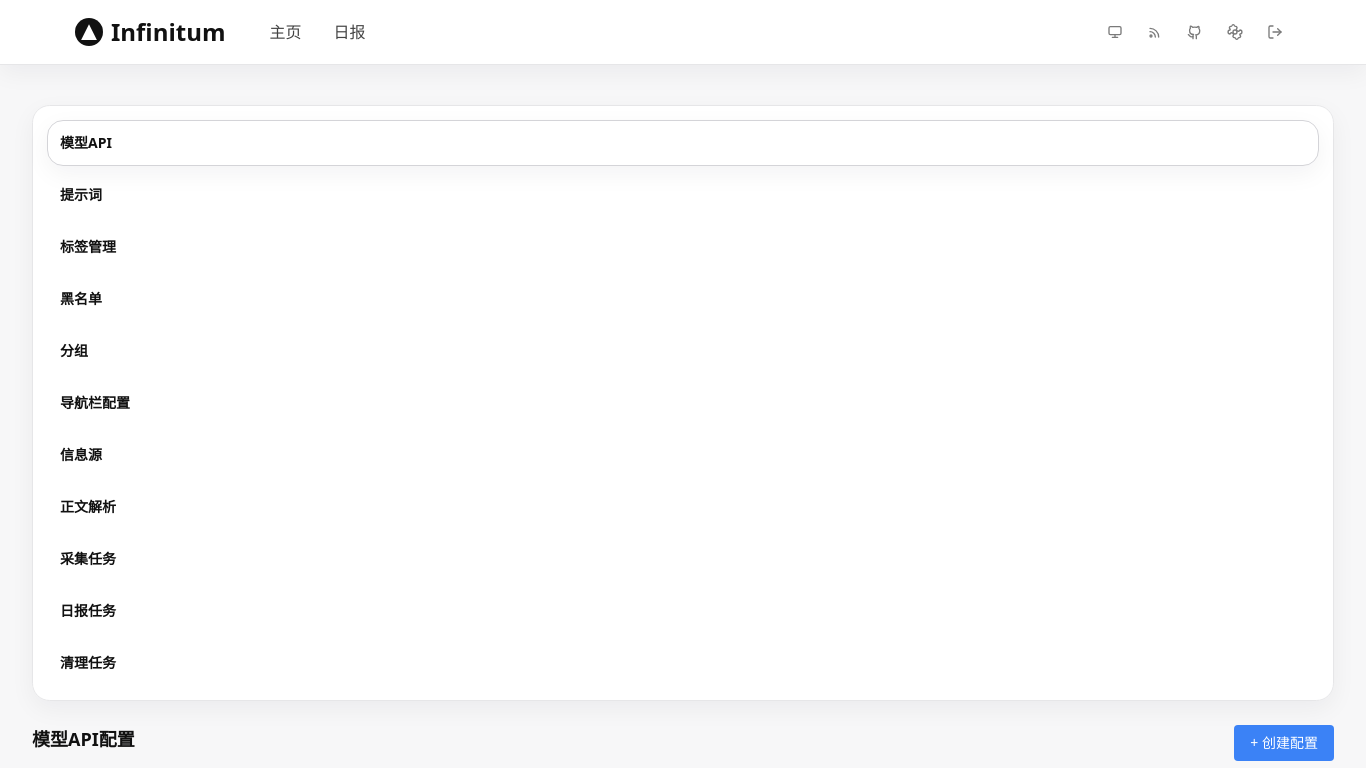
Test: AdminSettingsPanel › refreshes the current source query after editing a source
The image size is (1366, 768).
Click the tab "信息源" at (81, 454), box top-left (47, 432), bottom-right (1319, 478)
(page scrolled)
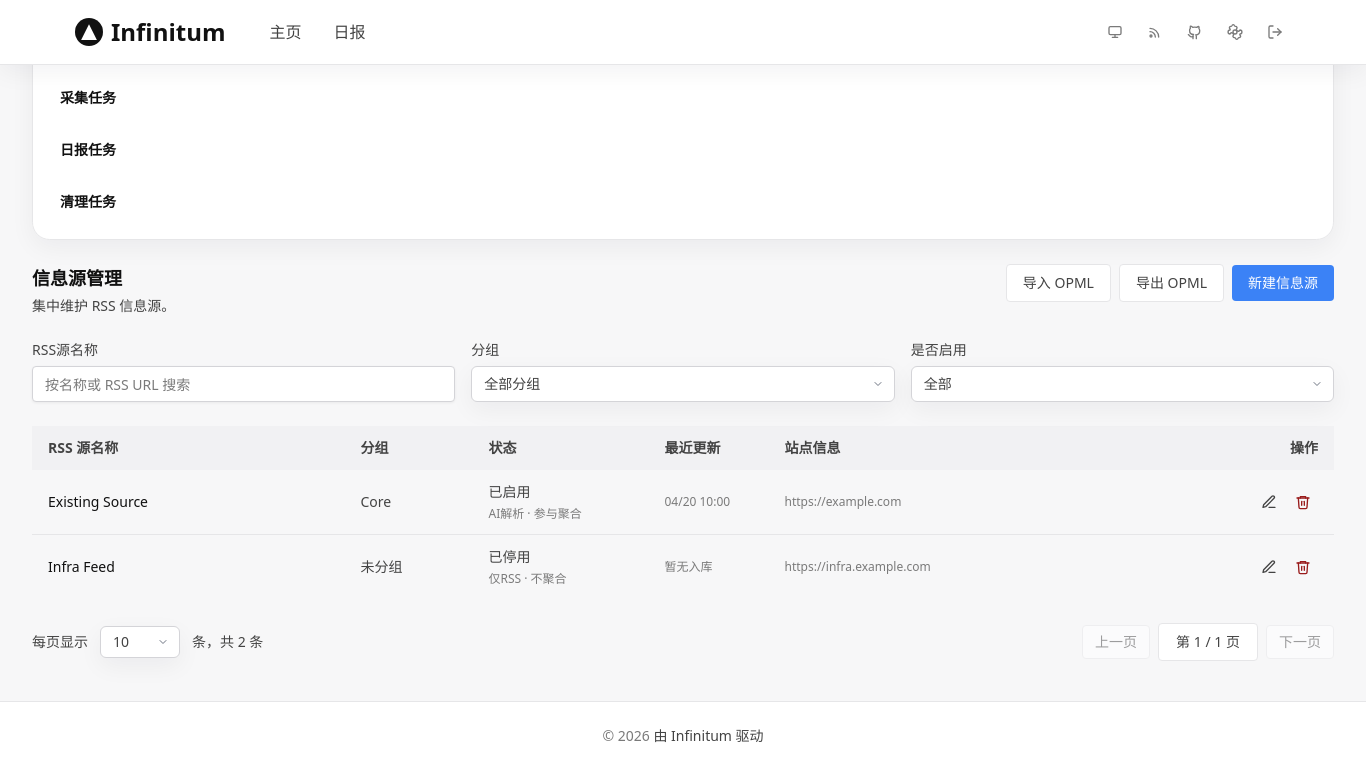
Type "Infra" into the field labelled "RSS源名称" at (244, 384), box top-left (32, 366), bottom-right (455, 402)
(page scrolled)
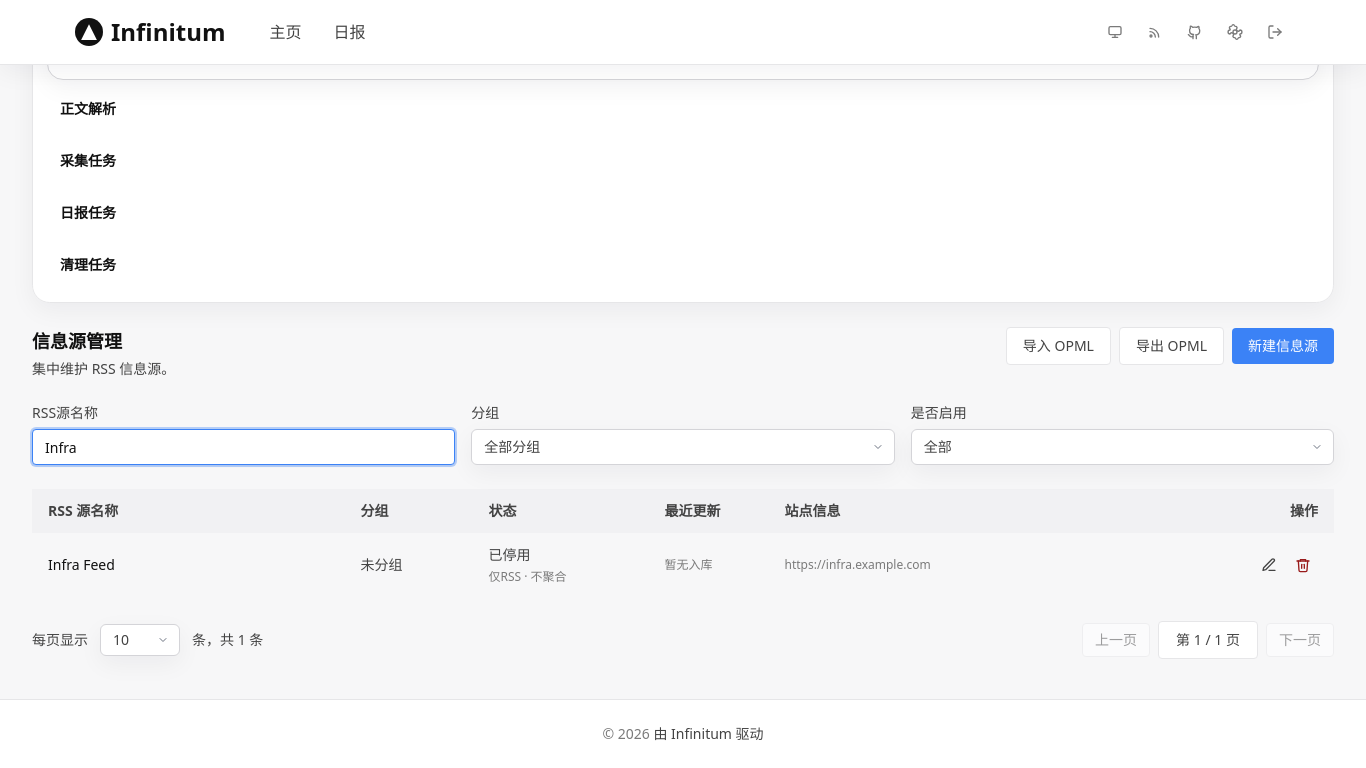
Select "已停用" in the dropdown labelled "是否启用" at (1122, 447), box top-left (911, 429), bottom-right (1334, 465)
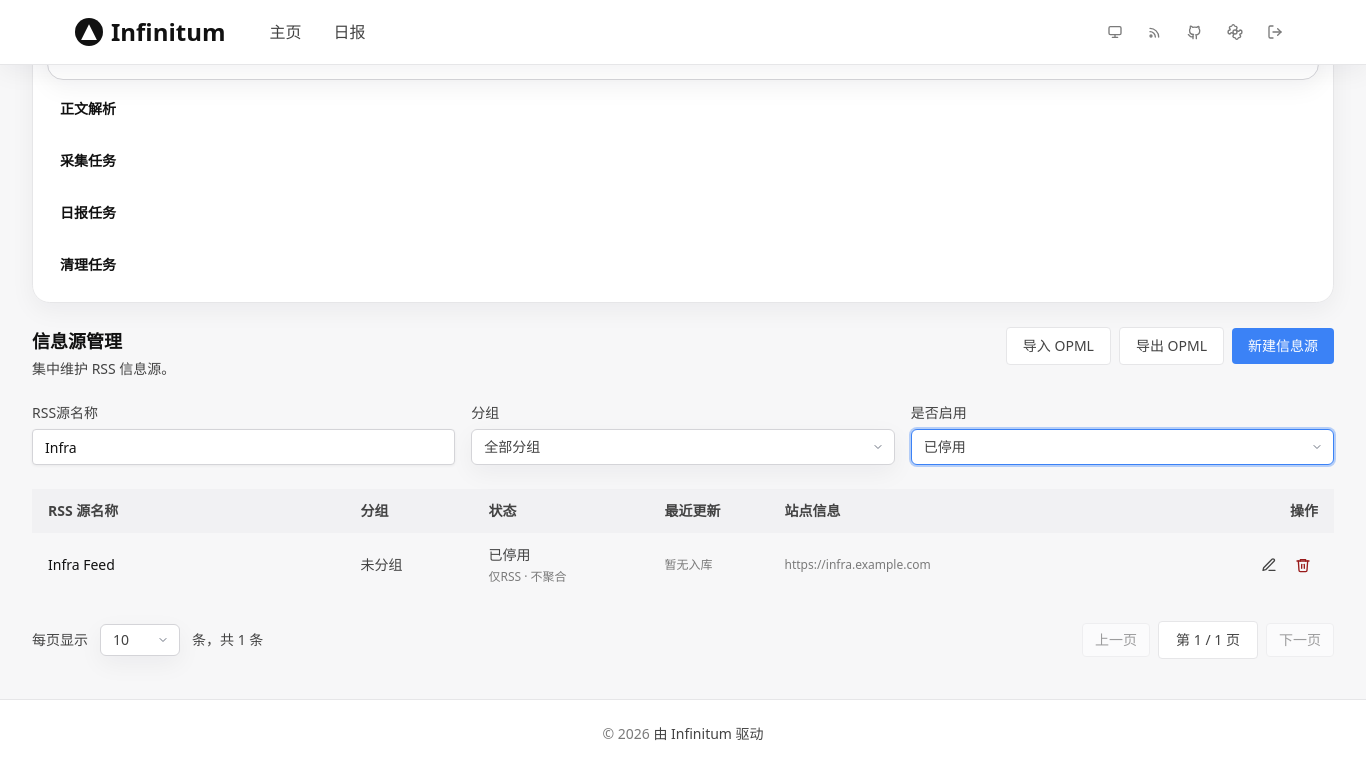
expect the text "Existing Source" is not shown: met
expect the text "Infra Feed" is shown: met, box top-left (48, 555), bottom-right (115, 574)
Click the button titled "编辑" at (1269, 565), box top-left (1254, 550), bottom-right (1284, 580)
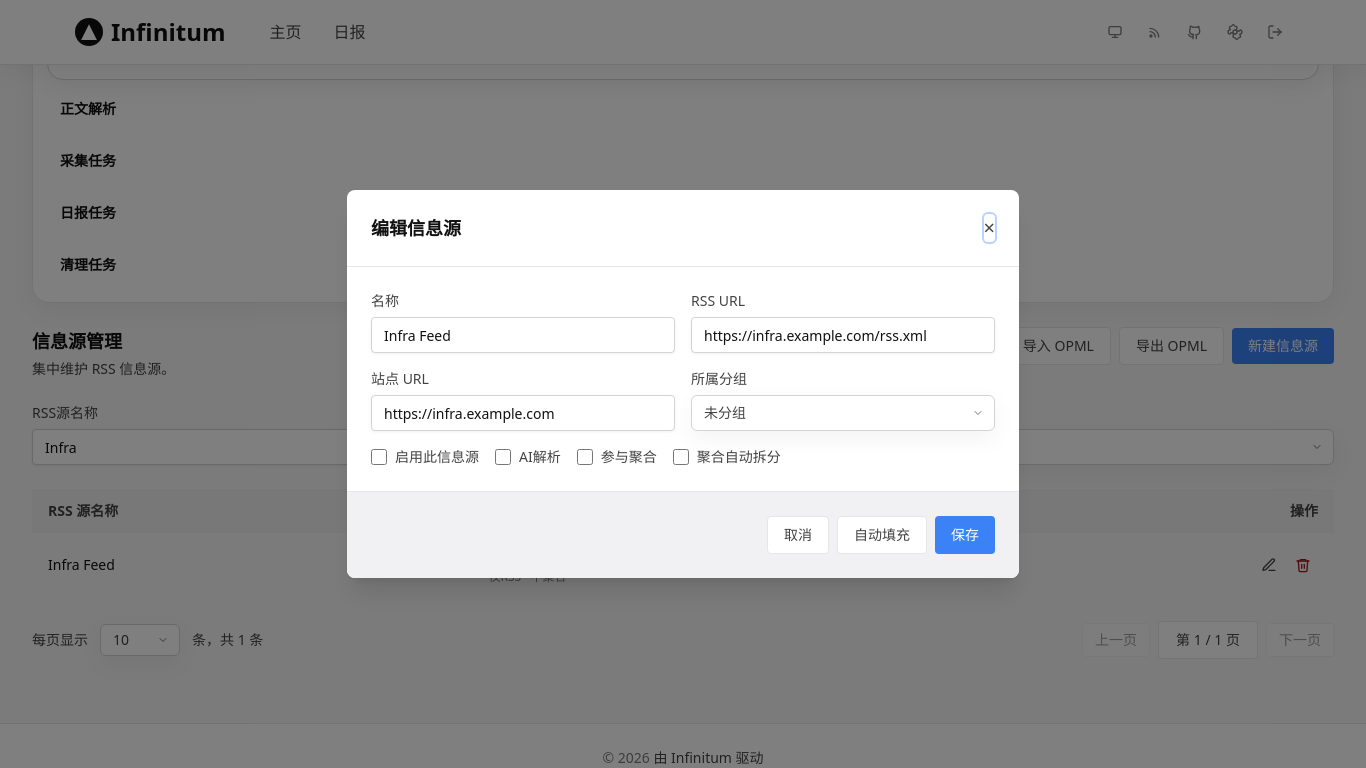
Replace the text in the field labelled "名称" with "Infra Feed Updated" at (523, 335), box top-left (371, 317), bottom-right (675, 353)
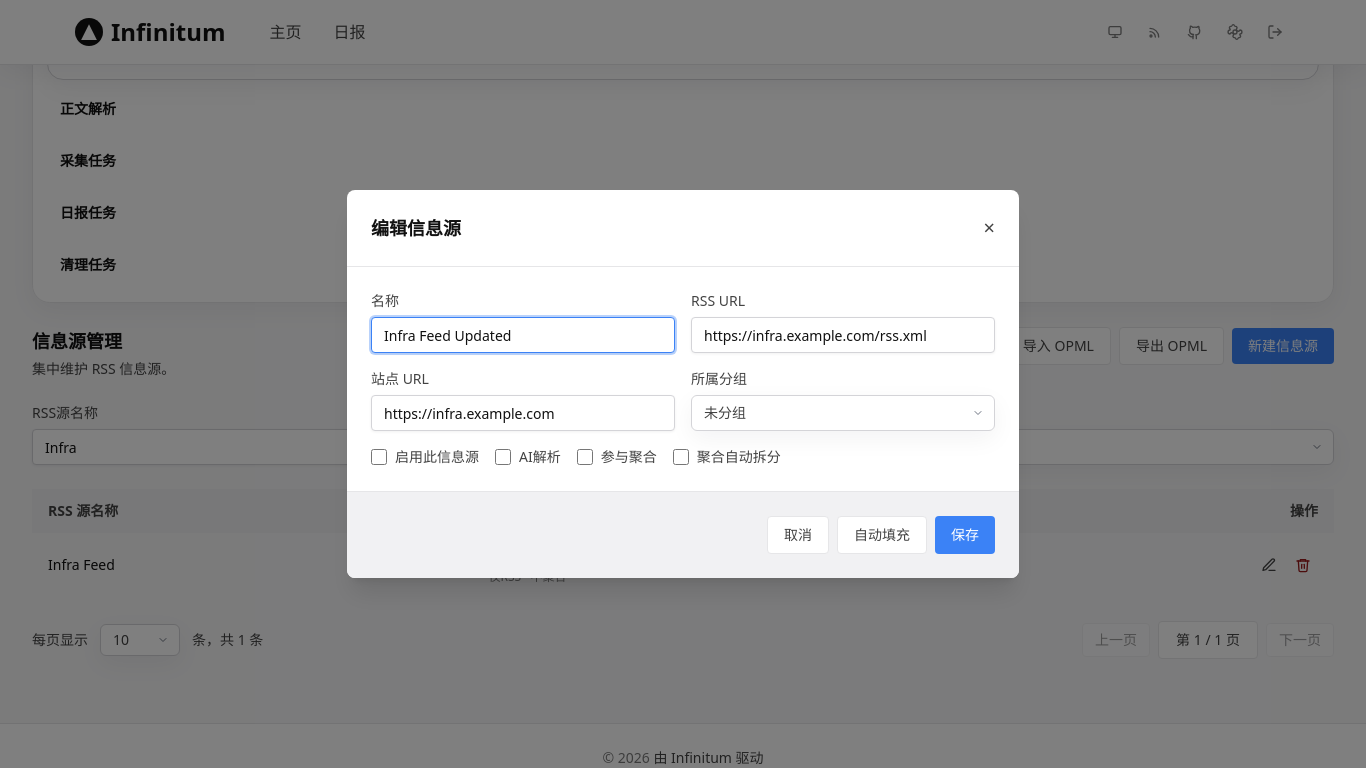
Click the button "保存" at (965, 535), box top-left (935, 516), bottom-right (995, 554)
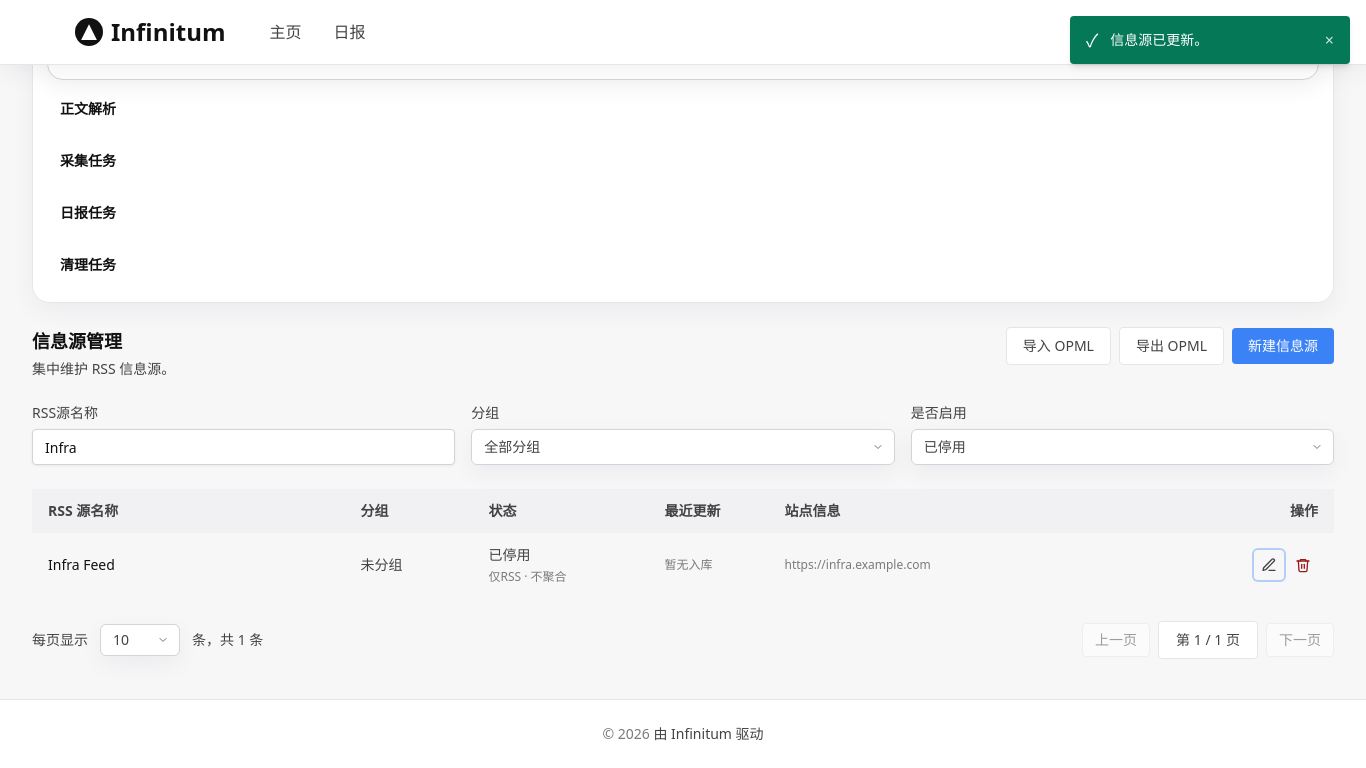
expect the heading "编辑信息源" is gone: met
